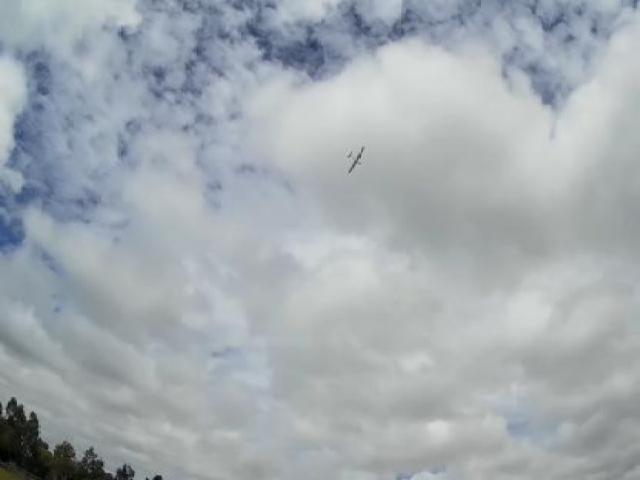uav: (339, 142, 370, 178)
